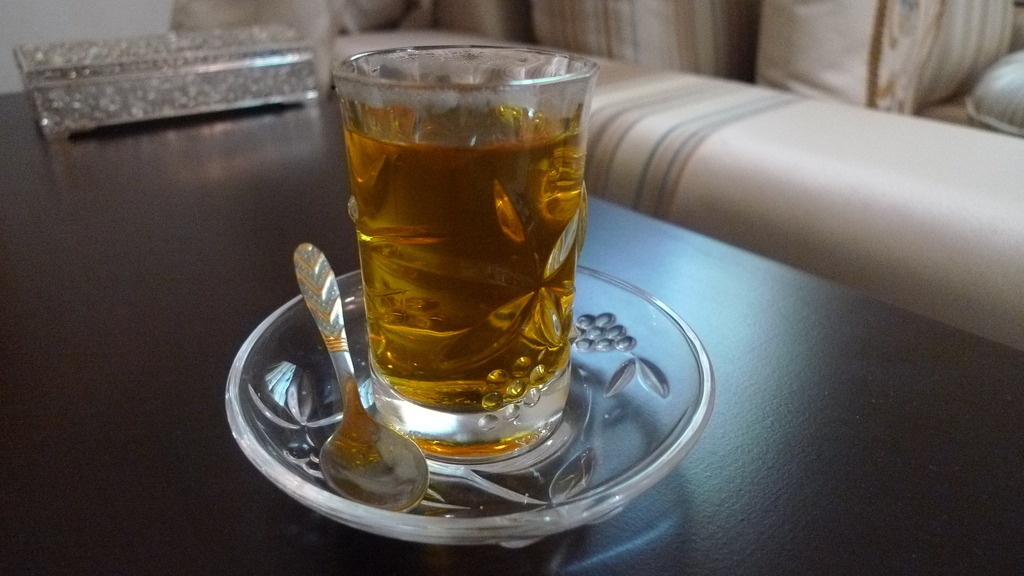Beer: (332, 44, 601, 464)
